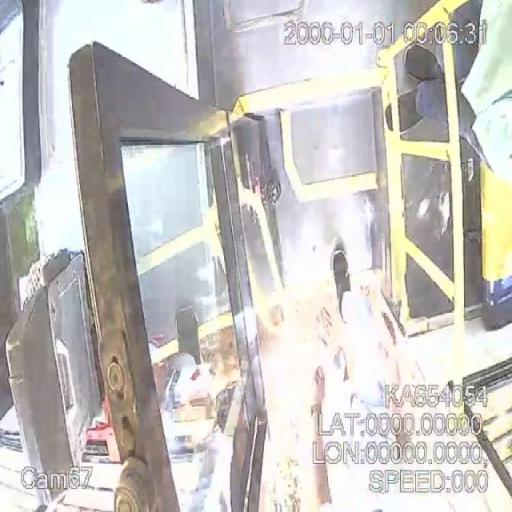persona: (326, 236, 404, 410)
